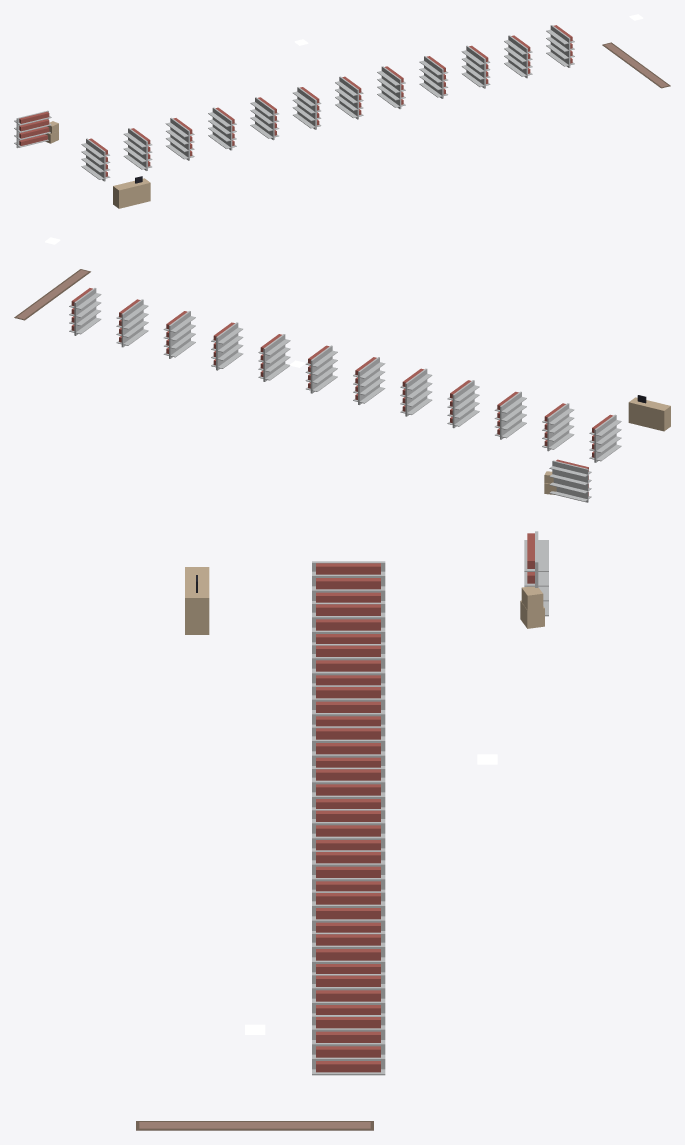
File: fine-s0.glb
The picture shows the model from 3 angles, top to bottom: view 1: azimuth 30°, elevation 25°; view 2: azimuth 150°, elevation 25°; view 3: azimuth 270°, elevation 25°; orthographic projection. The views are drawn at different scales.
Visible parts, largest first — view 1: shelving.000, shop-counter.000, shelf.007, shelf.009, shelf.001, shelf.010, shelf.003, shelf.011, shelf.002, shelf.005, shelf.006, shelf.000 (+3 smaller); view 2: shelving.000, shop-counter.000, shelf.004, shelf.007, shelf.008, shelf.001, shelf.011, shelf.003, shelf.000, shelf.005, shelf.006, shelf.010 (+3 smaller); view 3: shelf.011, shelf.000, shelf.004, shelf.008, shelf.001, shelf.002, shelf.003, shelf.005, shelf.006, shelf.007, shelf.009, shelf.010 (+4 smaller).
Part boxes in pixels (box(x1,y1,x2,y2)): shelving.000: box(14, 110, 51, 148); shop-counter.000: box(113, 176, 150, 208); shelf.007: box(377, 66, 405, 109); shelf.009: box(461, 45, 490, 88); shelf.001: box(123, 128, 152, 170); shelf.010: box(504, 35, 532, 78); shelf.003: box(208, 107, 236, 150); shelf.011: box(546, 25, 574, 67); shelf.002: box(165, 117, 194, 160); shelf.005: box(292, 87, 321, 129); shelf.006: box(335, 76, 363, 119); shelf.000: box(81, 138, 110, 181); shelving.000: box(549, 459, 591, 502); shop-counter.000: box(628, 395, 670, 431); shelf.004: box(400, 368, 432, 416); shelf.007: box(258, 334, 290, 381); shelf.008: box(211, 322, 243, 370); shelf.001: box(542, 403, 574, 451); shelf.011: box(69, 288, 101, 335); shelf.003: box(447, 380, 479, 428); shelf.000: box(589, 414, 621, 462); shelf.005: box(353, 357, 385, 404); shelf.006: box(305, 345, 337, 393); shelf.010: box(116, 299, 148, 347); shelf.011: box(312, 1015, 385, 1075); shelf.000: box(312, 561, 385, 602); shelf.004: box(312, 726, 385, 767); shelf.008: box(312, 891, 385, 932); shelf.001: box(312, 602, 385, 643); shelf.002: box(312, 644, 385, 685); shelf.003: box(312, 685, 385, 726); shelf.005: box(312, 767, 385, 808); shelf.006: box(312, 809, 385, 850); shelf.007: box(312, 850, 385, 891); shelf.009: box(312, 932, 385, 973); shelf.010: box(312, 974, 385, 1014).
Size of the model in its own units: 31.46 by 2.64 by 10.15.
